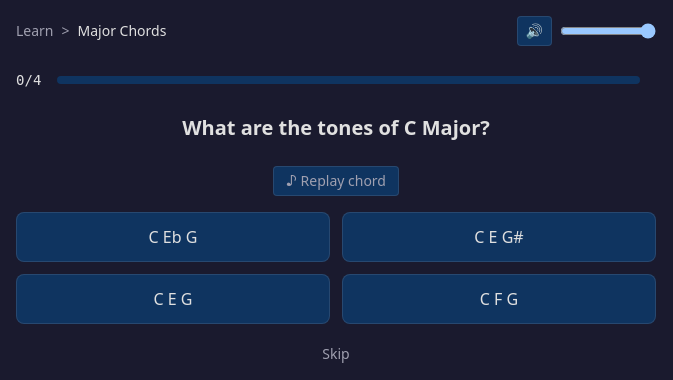
Test case: FlashcardSession › advances to next card after Continue
The width and height of the screenshot is (673, 380).
What coordinates should you click on to do the following:
click the button with test id "option-C E G"
I would click on:
 (173, 299)
Its box is [16,274,330,324].
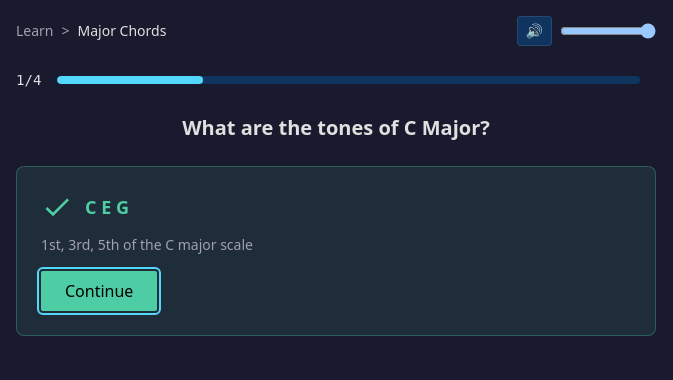
Now the button with test id "continue-button" is shown
What coordinates should you click on to do the following:
click the button with test id "continue-button"
I would click on:
 (99, 291)
Its box is [41,271,157,311].
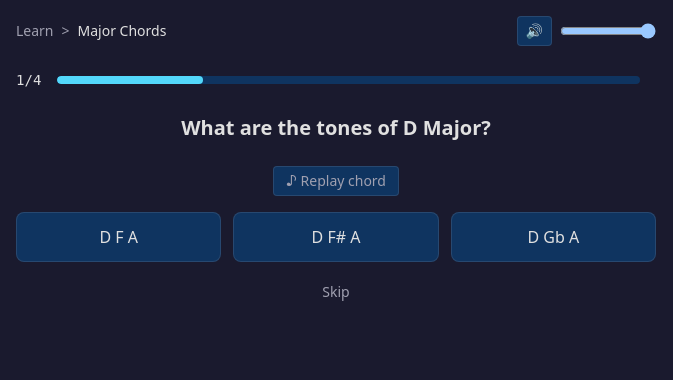
Now the heading with test id "question-text" reads "What are the tones of D Major?", box [181,114,491,141]
